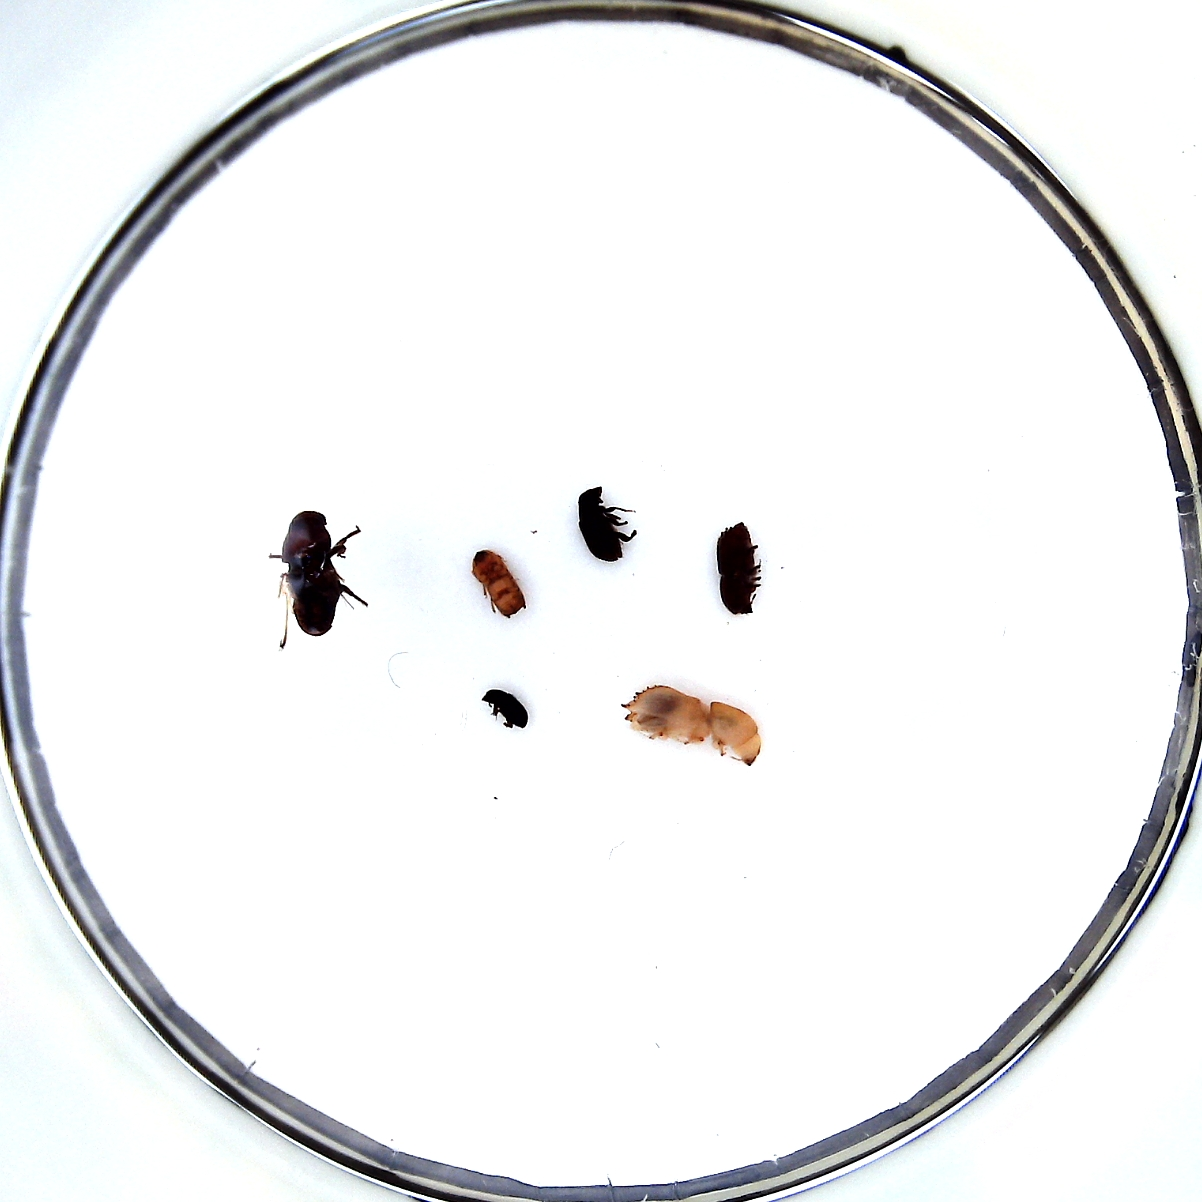Boerner: (622, 685, 761, 767)
Leconte: (281, 510, 343, 636)
acuminatus: (482, 690, 529, 728)
armandi: (577, 487, 623, 562)
linnaeus: (715, 521, 758, 615), (472, 549, 526, 618)
